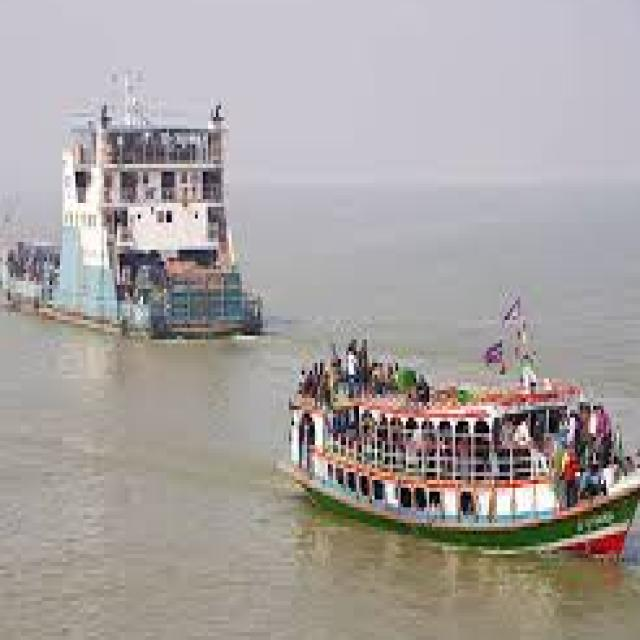passenger ship: (276, 277, 640, 562), (0, 70, 250, 336)
